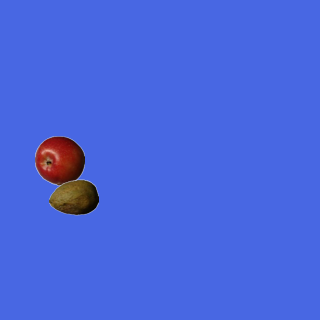Apple Braeburn: (34, 135, 84, 185)
Papaya: (48, 172, 98, 222)
